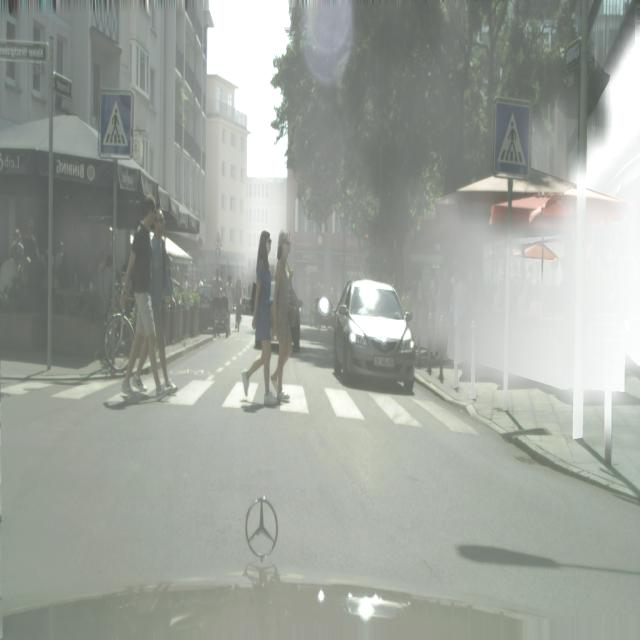car: (96, 263, 134, 392), (231, 275, 243, 334)
person: (132, 208, 179, 398), (123, 191, 163, 402), (240, 225, 275, 414), (270, 225, 297, 409), (208, 264, 230, 342), (223, 269, 233, 321)
truck: (328, 267, 417, 398), (249, 273, 305, 356), (307, 288, 336, 334)
